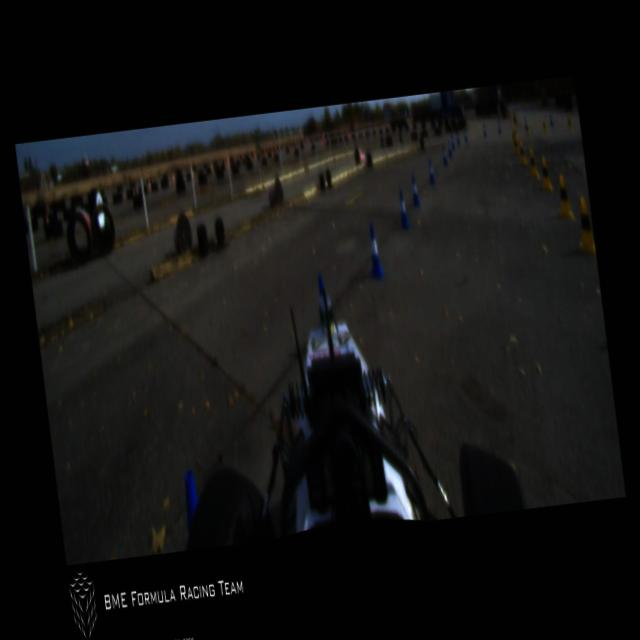blue_cone: (180, 467, 202, 538), (365, 224, 384, 278), (396, 188, 409, 228), (410, 176, 420, 206), (426, 160, 434, 182), (441, 146, 448, 165), (462, 126, 468, 144), (547, 110, 553, 128), (496, 119, 502, 135), (447, 139, 452, 157), (450, 135, 455, 151), (455, 128, 460, 144), (522, 116, 527, 130), (482, 122, 486, 136)
unknown_cone: (512, 109, 518, 123)
yellow_cone: (573, 196, 595, 253), (554, 174, 574, 222), (539, 156, 553, 190), (528, 147, 539, 177), (518, 139, 528, 167), (510, 124, 518, 146), (512, 134, 520, 154), (566, 113, 573, 131), (542, 118, 548, 136), (524, 120, 530, 138)
